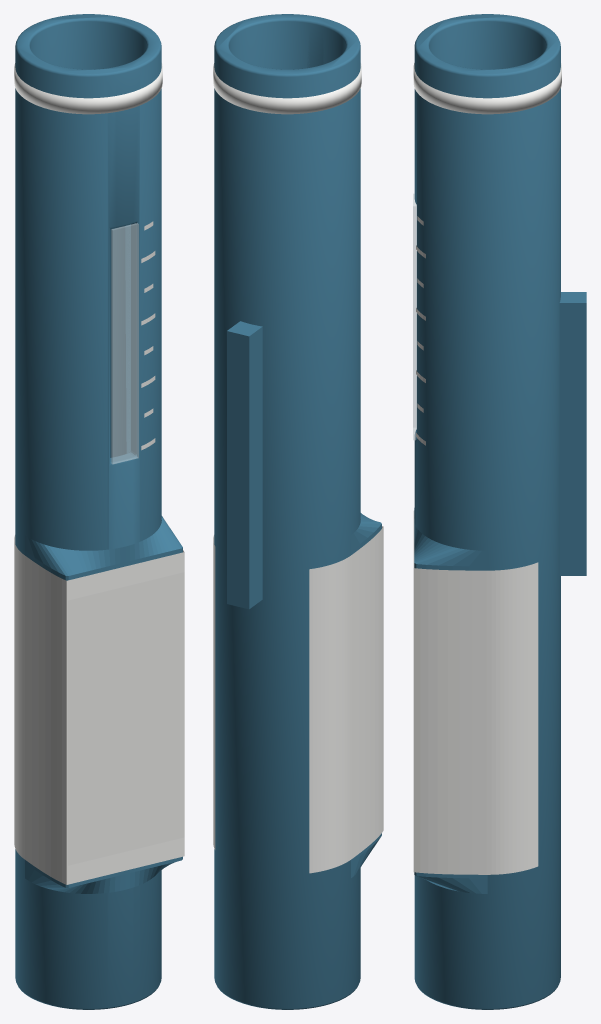
Rendered from pen.glb.
3 renders of one model, left to right at view 1: azimuth 30°, elevation 25°; view 2: azimuth 150°, elevation 25°; view 3: azimuth 270°, elevation 25°, orthographic.
Parts seen in each view (by area): view 1: pen_shell, pen_dm_label, pen_label, pen_window, label_land.001, end_collar.001, dose_tick.001; view 2: pen_shell, pen_label, pen_clip, end_collar.001, label_land.001; view 3: pen_shell, pen_label, pen_clip, label_land.001, end_collar.001, pen_window.
Part boxes in pixels (x1,y1,x2,y2): pen_shell: (15, 14, 161, 1009); pen_dm_label: (68, 572, 184, 865); pen_label: (14, 535, 184, 884); pen_window: (111, 223, 138, 464); label_land.001: (25, 516, 182, 893); end_collar.001: (14, 63, 162, 114); dose_tick.001: (141, 221, 155, 450); pen_shell: (214, 14, 360, 1009); pen_label: (213, 526, 383, 873); pen_clip: (227, 321, 262, 609); end_collar.001: (213, 63, 361, 114); label_land.001: (351, 513, 381, 877); pen_shell: (414, 14, 560, 1009); pen_label: (413, 510, 538, 874); pen_clip: (559, 292, 586, 575); label_land.001: (414, 508, 487, 893); end_collar.001: (413, 63, 561, 114); pen_window: (413, 193, 415, 440).
Size of the model in its own units: 0.0172 by 0.12 by 0.0203.
